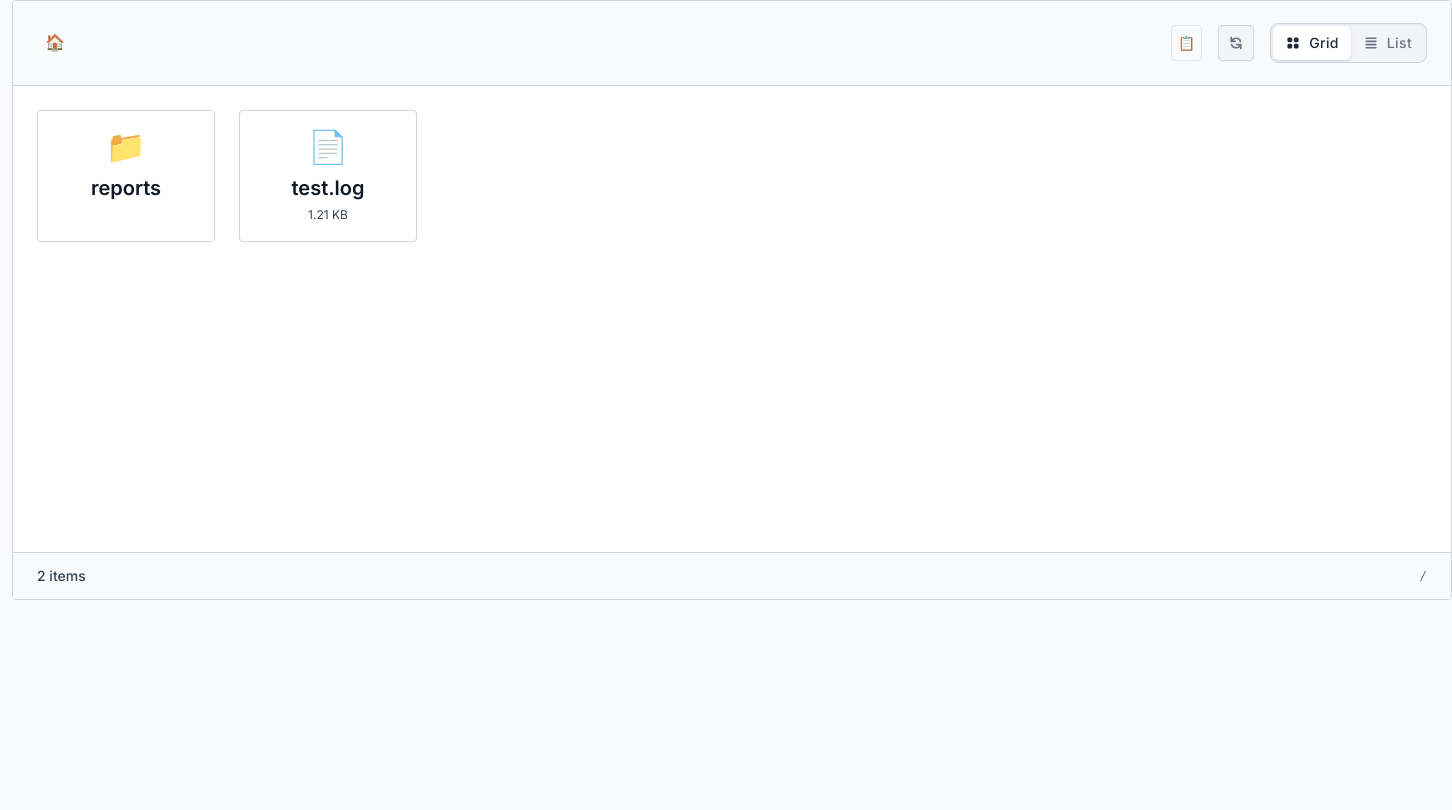
Test: FileExplorer › should show context menu on right click
The width and height of the screenshot is (1452, 810).
Note: Right click on file
Right-click the text "test.log" at [328, 188], box x1=292 y1=176 x2=364 y2=200
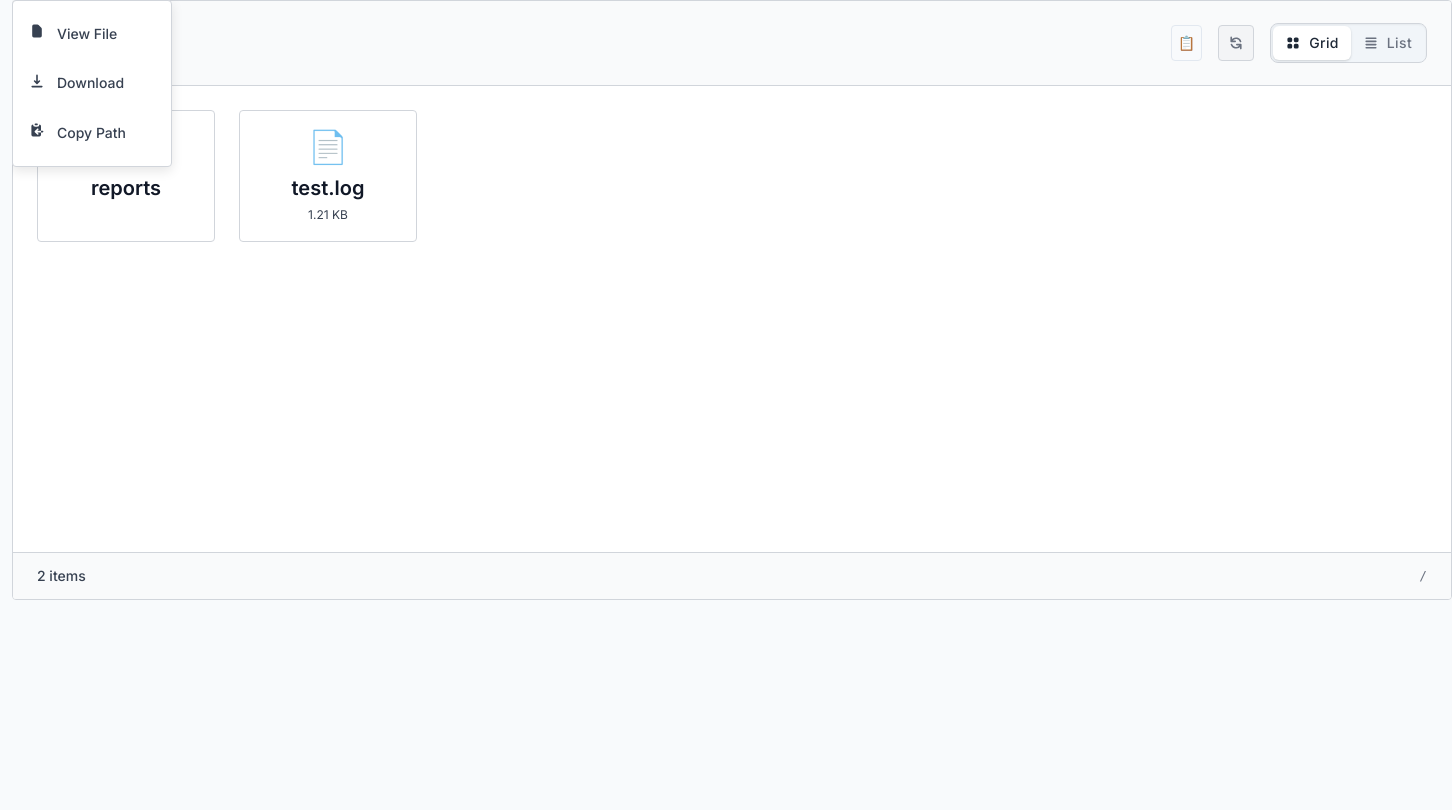
Expected: the text "Download" is shown, x1=57 y1=74 x2=124 y2=91
Expected: the text "Copy Path" is shown, x1=57 y1=124 x2=126 y2=141
